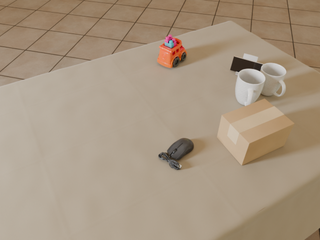box: (217, 99, 294, 165)
cup: (235, 69, 265, 106), (260, 63, 286, 96)
mouse: (158, 138, 194, 170)
phone: (230, 56, 264, 72)
toy_car: (157, 35, 187, 68)
